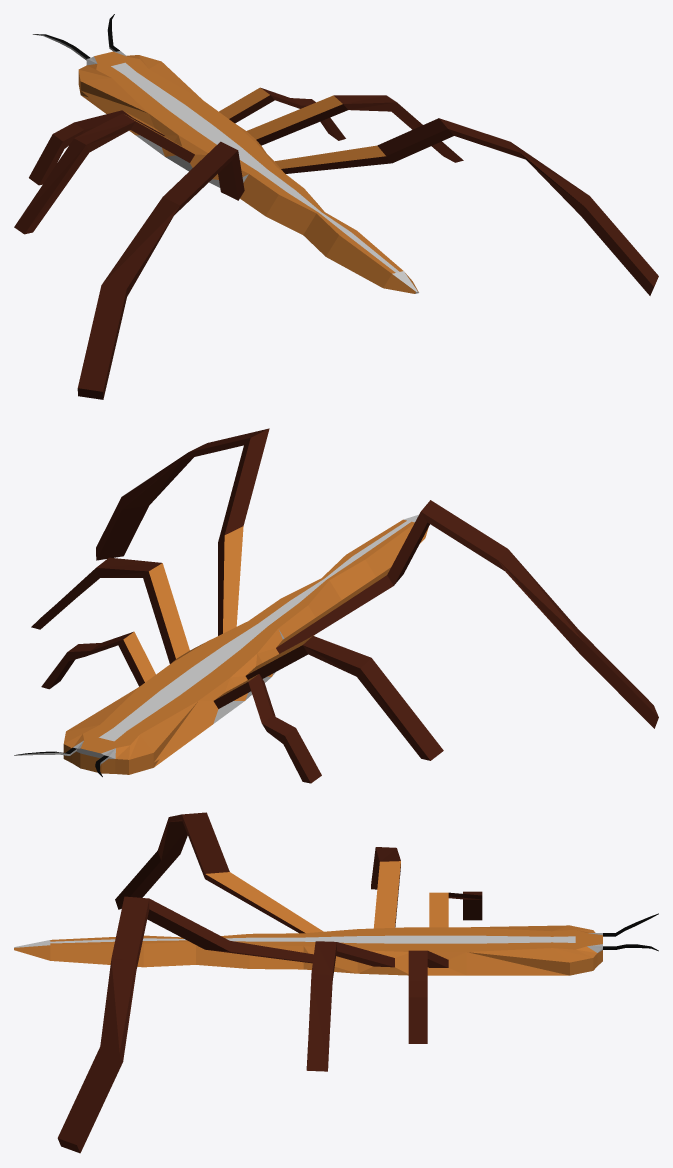
Rendered from locust-move.obj.
The picture shows the model from 3 angles, top to bottom: view 1: azimuth 30°, elevation 25°; view 2: azimuth 150°, elevation 25°; view 3: azimuth 270°, elevation 25°; orthographic projection. The views are drawn at different scales.
Parts seen in each view (by area): view 1: Cube_Cube.001; view 2: Cube_Cube.001; view 3: Cube_Cube.001.
Boxes of the visible parts, x1,y1,x2,y2 form: Cube_Cube.001: [14, 14, 658, 399]; Cube_Cube.001: [14, 428, 658, 783]; Cube_Cube.001: [14, 812, 658, 1153].
Size of the model in its own units: 3.62 by 1.16 by 3.91.
